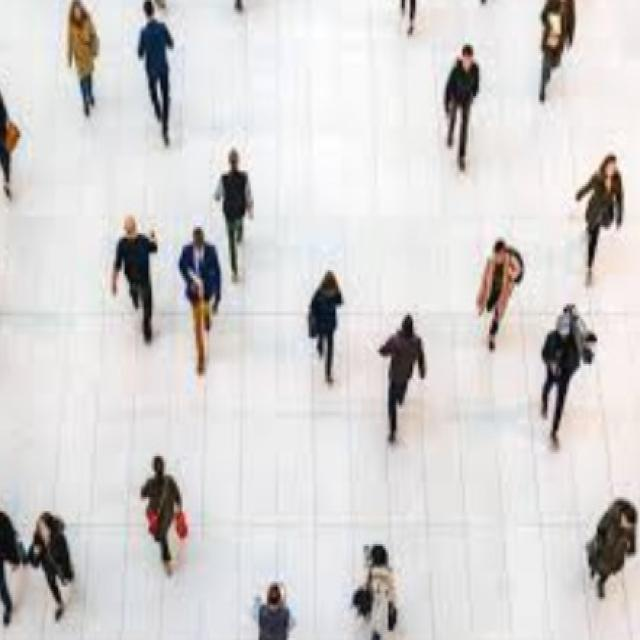humans: (528, 292, 602, 475), (102, 210, 168, 366), (565, 137, 628, 297), (371, 304, 436, 456), (572, 481, 640, 620), (136, 444, 199, 594), (20, 503, 89, 632), (171, 222, 225, 385), (294, 261, 356, 400), (466, 231, 530, 363), (208, 140, 261, 292), (134, 0, 184, 157), (344, 526, 412, 640), (440, 41, 482, 183), (57, 0, 104, 124), (532, 0, 574, 117), (246, 572, 301, 640)
